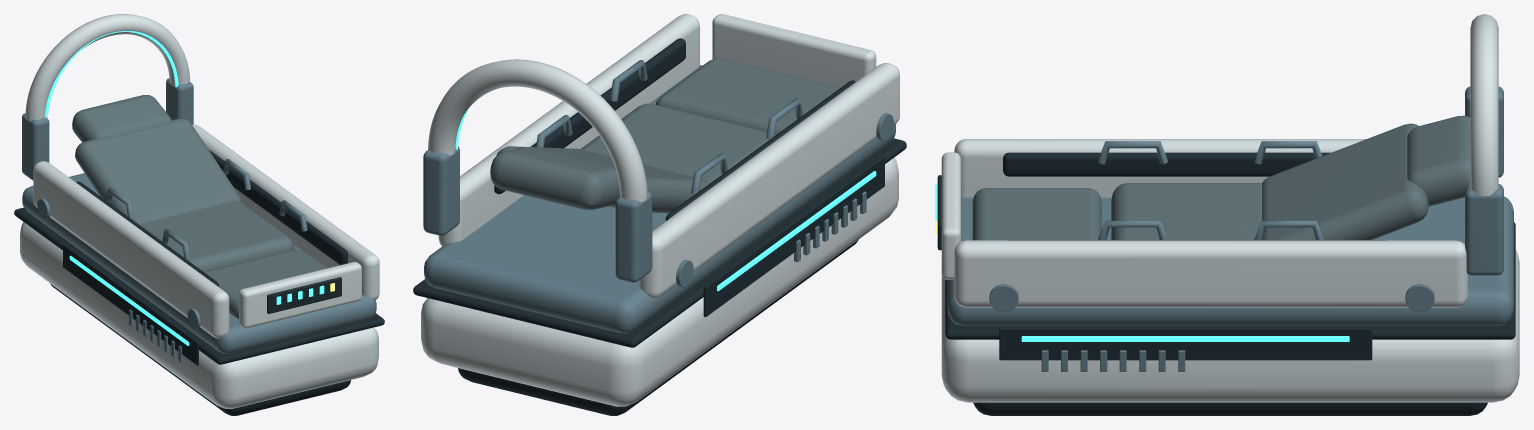
Rendered from RescueCradle.fbx.
3 views of the same model, side by side, from view 1: azimuth 30°, elevation 25°; view 2: azimuth 150°, elevation 25°; view 3: azimuth 270°, elevation 25° (orthographic). The views are drawn at different scales.
Parts seen in each view (by area): view 1: Sculpted lower shell, Raised backrest, Ceramic side guard, Reclining deck, Pelvic support cushion, Head scanner ceramic arch, Ceramic side guard.001, Foot end control housing, Dark service gasket, Contoured head pillow, Calf support cushion, Side service inset (+8 smaller); view 2: Sculpted lower shell, Reclining deck, Ceramic side guard, Head scanner ceramic arch, Ceramic side guard.001, Calf support cushion, Pelvic support cushion, Foot end control housing, Dark service gasket, Contoured head pillow, Side service inset, Scanner vertical support (+10 smaller); view 3: Ceramic side guard.001, Sculpted lower shell, Reclining deck, Raised backrest, Side service inset.001, Ceramic side guard, Pelvic support cushion, Side guard inner cushion, Recessed magnetic foot, Calf support cushion, Head scanner ceramic arch, Contoured head pillow (+11 smaller).
Part boxes in pixels (bbox=[...]): Sculpted lower shell: bbox=[20, 222, 378, 408]; Raised backrest: bbox=[75, 118, 241, 224]; Ceramic side guard: bbox=[33, 161, 229, 338]; Reclining deck: bbox=[22, 173, 376, 353]; Pelvic support cushion: bbox=[140, 201, 294, 271]; Head scanner ceramic arch: bbox=[25, 14, 189, 121]; Ceramic side guard.001: bbox=[192, 124, 379, 299]; Foot end control housing: bbox=[239, 262, 361, 328]; Dark service gasket: bbox=[14, 207, 384, 364]; Contoured head pillow: bbox=[72, 95, 171, 142]; Calf support cushion: bbox=[204, 249, 325, 318]; Side service inset: bbox=[63, 244, 198, 365]; Sculpted lower shell: bbox=[421, 157, 898, 406]; Reclining deck: bbox=[424, 65, 895, 333]; Ceramic side guard: bbox=[639, 63, 899, 298]; Head scanner ceramic arch: bbox=[428, 59, 647, 202]; Ceramic side guard.001: bbox=[438, 14, 699, 246]; Calf support cushion: bbox=[655, 58, 839, 134]; Pelvic support cushion: bbox=[580, 103, 775, 182]; Foot end control housing: bbox=[712, 14, 876, 87]; Dark service gasket: bbox=[413, 138, 906, 347]; Contoured head pillow: bbox=[490, 147, 619, 209]; Side service inset: bbox=[703, 156, 884, 317]; Scanner vertical support: bbox=[615, 191, 652, 282]; Ceramic side guard.001: bbox=[954, 240, 1467, 307]; Sculpted lower shell: bbox=[941, 249, 1519, 402]; Reclining deck: bbox=[947, 196, 1513, 325]; Raised backrest: bbox=[1261, 123, 1428, 239]; Side service inset.001: bbox=[999, 328, 1372, 360]; Ceramic side guard: bbox=[954, 139, 1366, 197]; Pelvic support cushion: bbox=[1111, 183, 1261, 239]; Side guard inner cushion: bbox=[1003, 152, 1330, 176]; Recessed magnetic foot: bbox=[973, 402, 1487, 415]; Calf support cushion: bbox=[972, 188, 1101, 240]; Head scanner ceramic arch: bbox=[1470, 14, 1498, 196]; Contoured head pillow: bbox=[1407, 115, 1470, 206].
Size of the model in its own units: 1.45 by 1.99 by 2.99.
